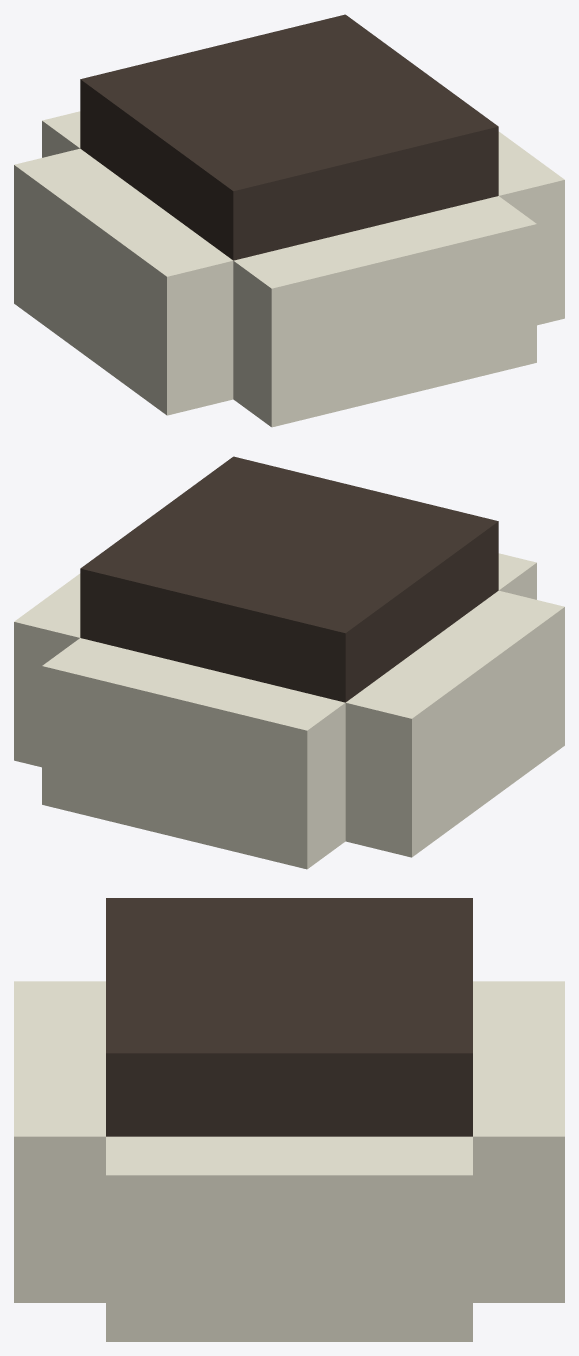
The model's file is char-78-helm_lgt_1a_ja_color.obj.
The picture shows the model from 3 angles, top to bottom: view 1: azimuth 30°, elevation 25°; view 2: azimuth 150°, elevation 25°; view 3: azimuth 270°, elevation 25°; orthographic projection. The views are drawn at different scales.
Visible parts, largest first — view 1: helm_lgt_1a_ja_color; view 2: helm_lgt_1a_ja_color; view 3: helm_lgt_1a_ja_color.
Part boxes in pixels (x1,y1,x2,y2): helm_lgt_1a_ja_color: [14, 14, 564, 427]; helm_lgt_1a_ja_color: [14, 456, 564, 869]; helm_lgt_1a_ja_color: [14, 898, 564, 1341].
Size of the model in its own units: 0.6 by 0.3 by 0.6.
Materials: 1 (1 with a texture image).
